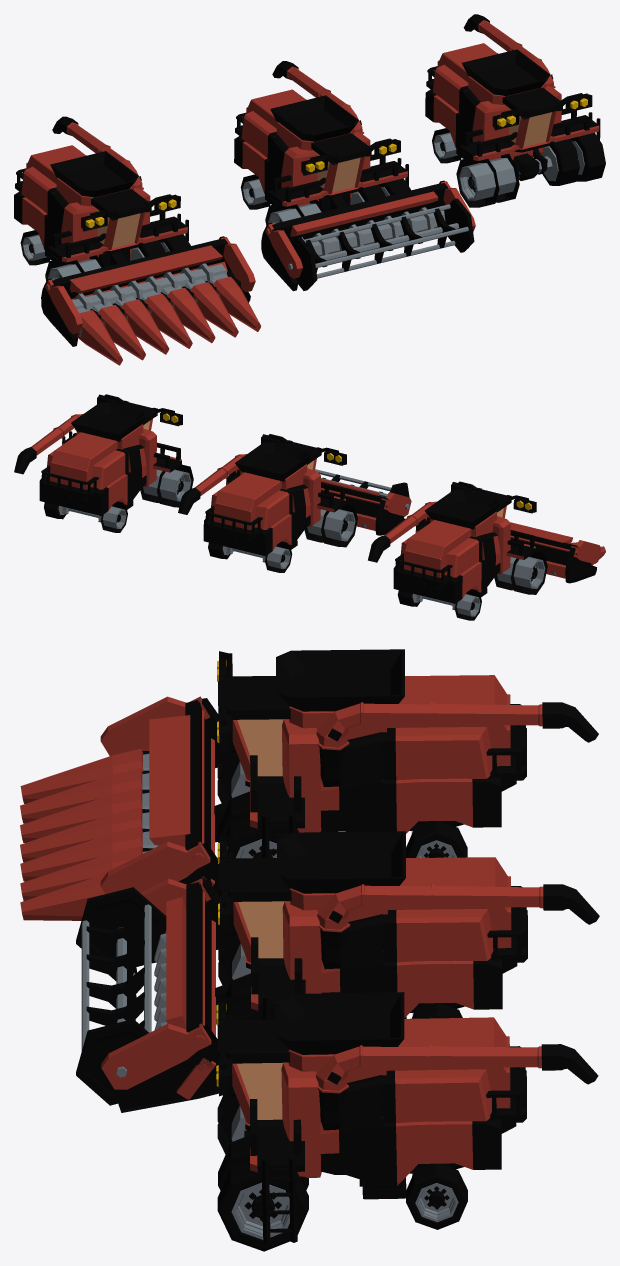
Rendered from Combines.fbx.
3 views of the same model, one above another, from view 1: azimuth 30°, elevation 25°; view 2: azimuth 150°, elevation 25°; view 3: azimuth 270°, elevation 25° (orthographic). The views are drawn at different scales.
Visible parts, largest first — view 1: Cube.026, Cube.146, Cube.190, Cube.038, Cube.107, Cube.001, Cube.155, Cube.106, Cube.156, Cube.002, Cube.104, Cube.195 (+23 smaller); view 2: Cube.026, Cube.002, Cube.156, Cube.036, Cube.188, Cube.038, Cube.190, Cube.157, Cube.003, Cube.048, Cube.200, Cube.104 (+21 smaller); view 3: Cube.026, Cube.146, Cube.156, Cube.002, Cube.190, Cube.038, Cube.040, Cube.192, Cube.107, Cube.001, Cube.155, Cube.157 (+23 smaller).
Part boxes in pixels (x1,y1,x2,y2): Cube.026: (234,61,475,291); Cube.146: (76,276,260,365); Cube.190: (462,49,550,96); Cube.038: (50,151,138,197); Cube.107: (70,245,222,293); Cube.001: (91,189,147,253); Cube.155: (502,87,558,152); Cube.106: (72,263,226,310); Cube.156: (425,53,498,150); Cube.002: (14,155,86,252); Cube.104: (52,238,227,298); Cube.195: (475,86,561,160); Cube.026: (178,434,411,572); Cube.002: (393,536,484,603); Cube.156: (39,448,130,515); Cube.036: (404,520,471,577); Cube.188: (50,432,117,489); Cube.038: (424,489,500,529); Cube.190: (71,402,147,441); Cube.157: (123,444,146,502); Cube.003: (477,532,500,589); Cube.048: (513,557,545,588); Cube.200: (159,469,191,501); Cube.104: (426,517,577,565); Cube.026: (76,831,599,1112); Cube.146: (20,748,143,920); Cube.156: (381,1069,501,1186); Cube.002: (382,727,501,833); Cube.190: (275,992,404,1054); Cube.038: (276,649,404,711); Cube.040: (316,702,542,786); Cube.192: (316,1044,541,1130); Cube.107: (149,715,190,846); Cube.001: (218,676,290,786); Cube.155: (217,1019,290,1130); Cube.157: (320,1075,383,1186).
Bounding box in the file's own units: 1597 × 298 × 814.
